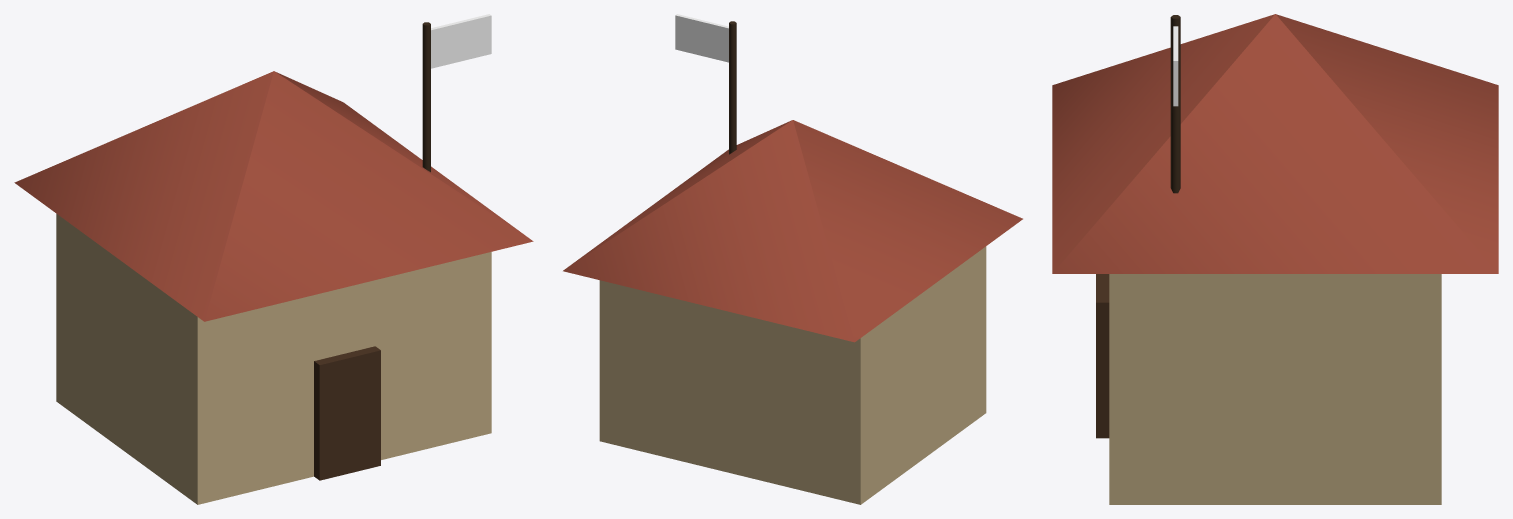
File: haus.glb
3 renders of one model, left to right at view 1: azimuth 30°, elevation 25°; view 2: azimuth 150°, elevation 25°; view 3: azimuth 270°, elevation 25°, orthographic. The views are drawn at different scales.
Parts seen in each view (by area): view 1: Testhaus; view 2: Testhaus; view 3: Testhaus.
Part boxes in pixels (x1,y1,x2,y2): Testhaus: [14, 14, 533, 504]; Testhaus: [563, 14, 1022, 504]; Testhaus: [1052, 14, 1498, 504].
Bounding box in the file's own units: 2.76 × 3.1 × 2.69.
